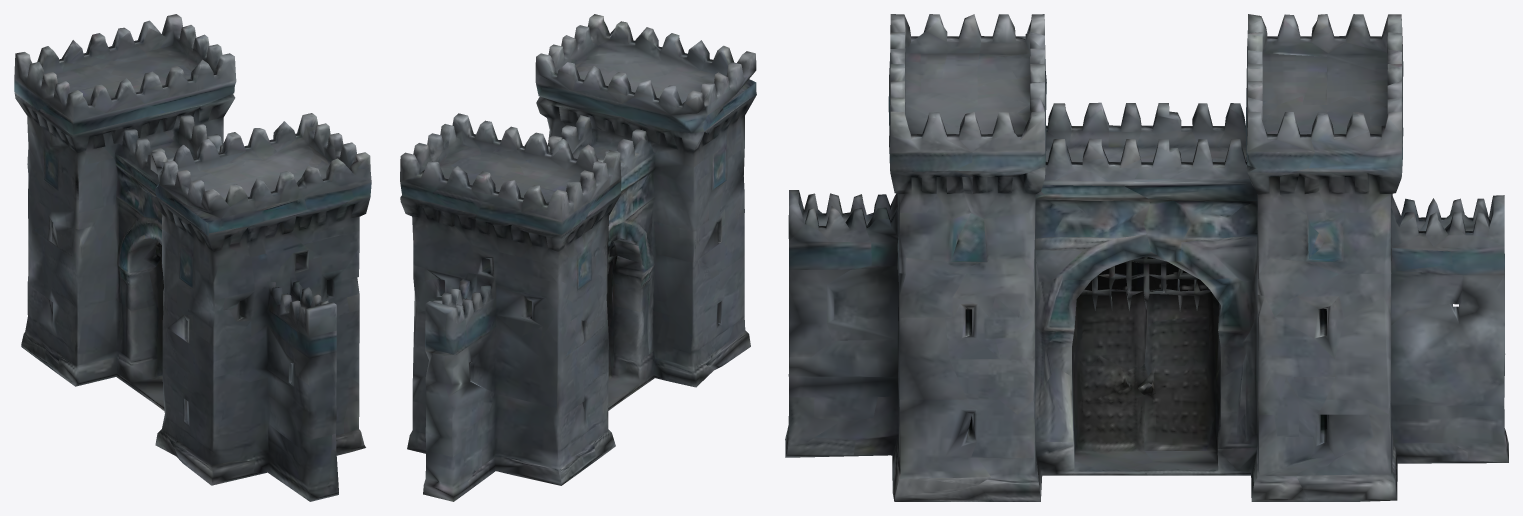
File: castle_gate_stone.glb
3 views of the same model, side by side, from view 1: azimuth 30°, elevation 25°; view 2: azimuth 150°, elevation 25°; view 3: azimuth 270°, elevation 25° (orthographic). The views are drawn at different scales.
Visible parts, largest first — view 1: tripo_node_3b004a20-0374-40e4-b3be-526f84e99a32; view 2: tripo_node_3b004a20-0374-40e4-b3be-526f84e99a32; view 3: tripo_node_3b004a20-0374-40e4-b3be-526f84e99a32.
Part boxes in pixels (x1=…): tripo_node_3b004a20-0374-40e4-b3be-526f84e99a32: x1=14, y1=14, x2=371, y2=501; tripo_node_3b004a20-0374-40e4-b3be-526f84e99a32: x1=400, y1=14, x2=756, y2=501; tripo_node_3b004a20-0374-40e4-b3be-526f84e99a32: x1=785, y1=14, x2=1508, y2=501.
Bounding box in the file's own units: 0.3373 × 0.5777 × 0.9799.
Materials: 1 (1 with a texture image).
